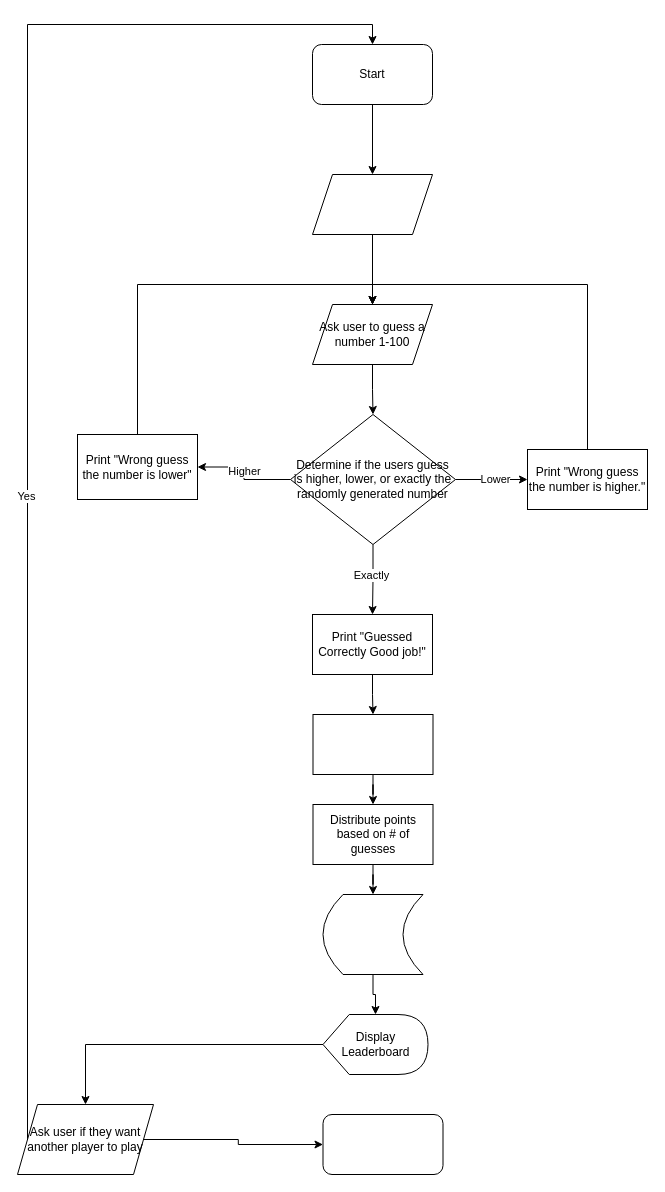
The diagram is 665 pixels wide and 1192 high, and some of its shapes have lost their labels. Here are the shapes that lost their labels. From the top down, the centre of each, then its label:
At (x=372, y=204): "Ask user to enter name of player".
At (x=372, y=744): "Calculate the # of tries it took to guess the correct number".
At (x=372, y=934): "Store username and score & adjust leaderboard".
At (x=382, y=1144): "End".
